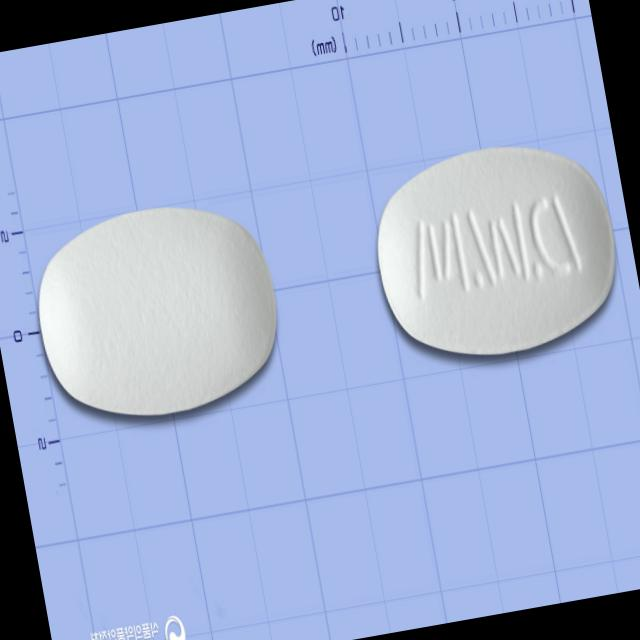Clar - 500mg: (360, 128, 630, 374), (22, 188, 292, 432)
